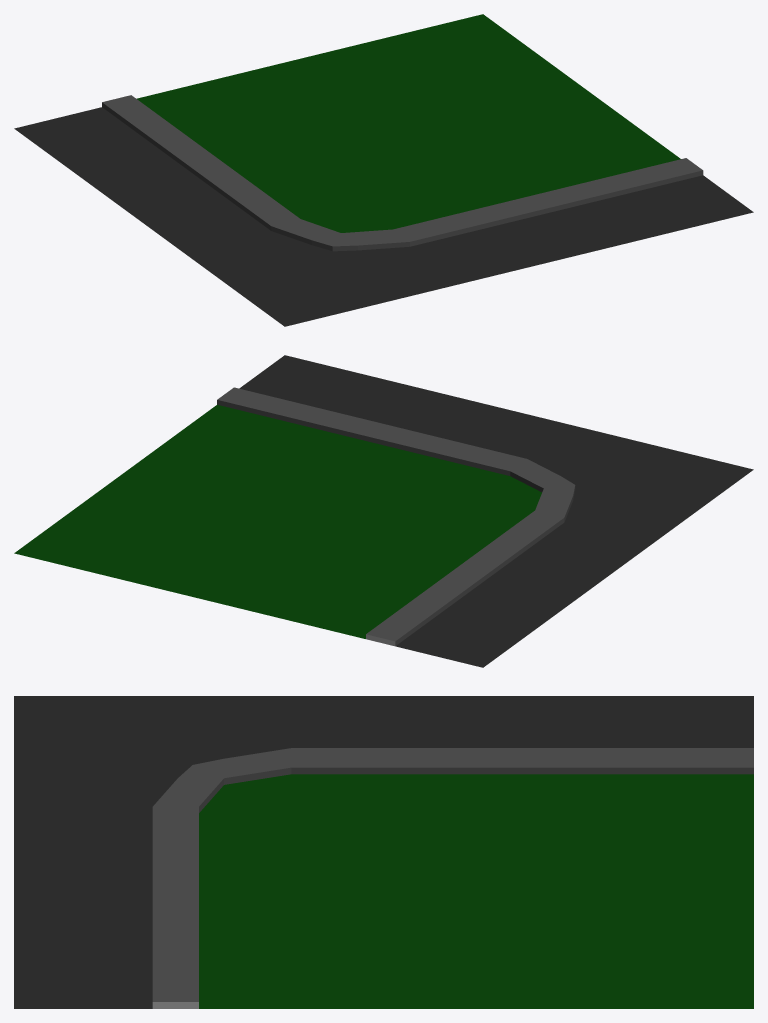
File: StreetCurbL.fbx
3 renders of one model, top to bottom at view 1: azimuth 30°, elevation 25°; view 2: azimuth 150°, elevation 25°; view 3: azimuth 270°, elevation 25°, orthographic. The views are drawn at different scales.
Parts seen in each view (by area): view 1: Plane.008; view 2: Plane.008; view 3: Plane.008.
Part boxes in pixels (bbox=[...]): Plane.008: bbox=[14, 14, 753, 326]; Plane.008: bbox=[14, 355, 753, 667]; Plane.008: bbox=[14, 696, 753, 1008].
Bounding box in the file's own units: 500 × 5 × 500.
